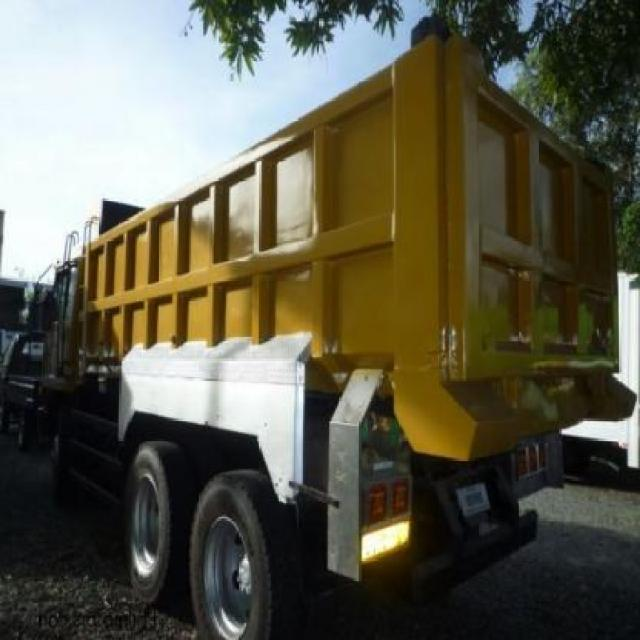truck: (54, 14, 637, 640)
